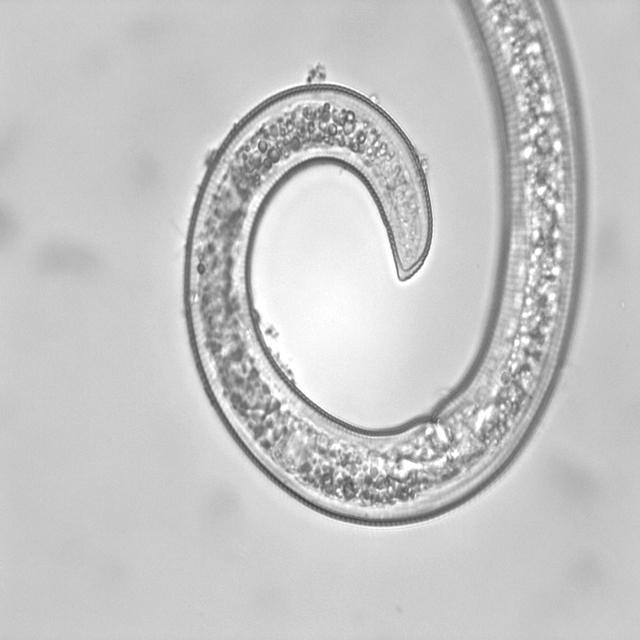Helicotylenchus: (168, 0, 610, 531)
